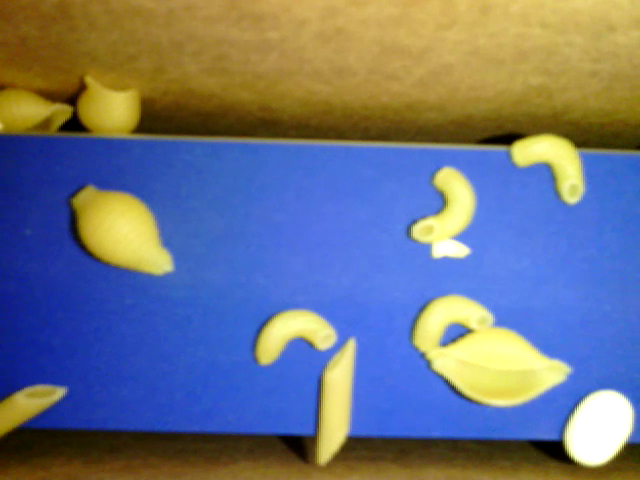elbow: (404, 162, 478, 247), (506, 133, 585, 205), (253, 307, 337, 366), (409, 297, 495, 354)
penne: (312, 335, 358, 467), (1, 382, 69, 438)
shell: (425, 324, 575, 417), (70, 183, 173, 275), (76, 76, 142, 137), (1, 85, 78, 134)
